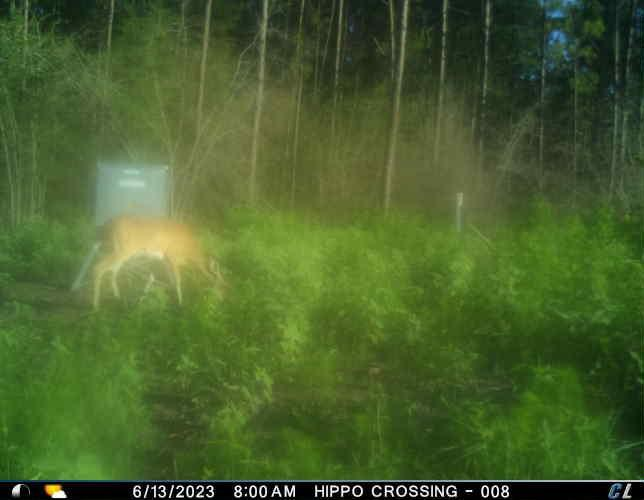Deer: (89, 216, 228, 310)
